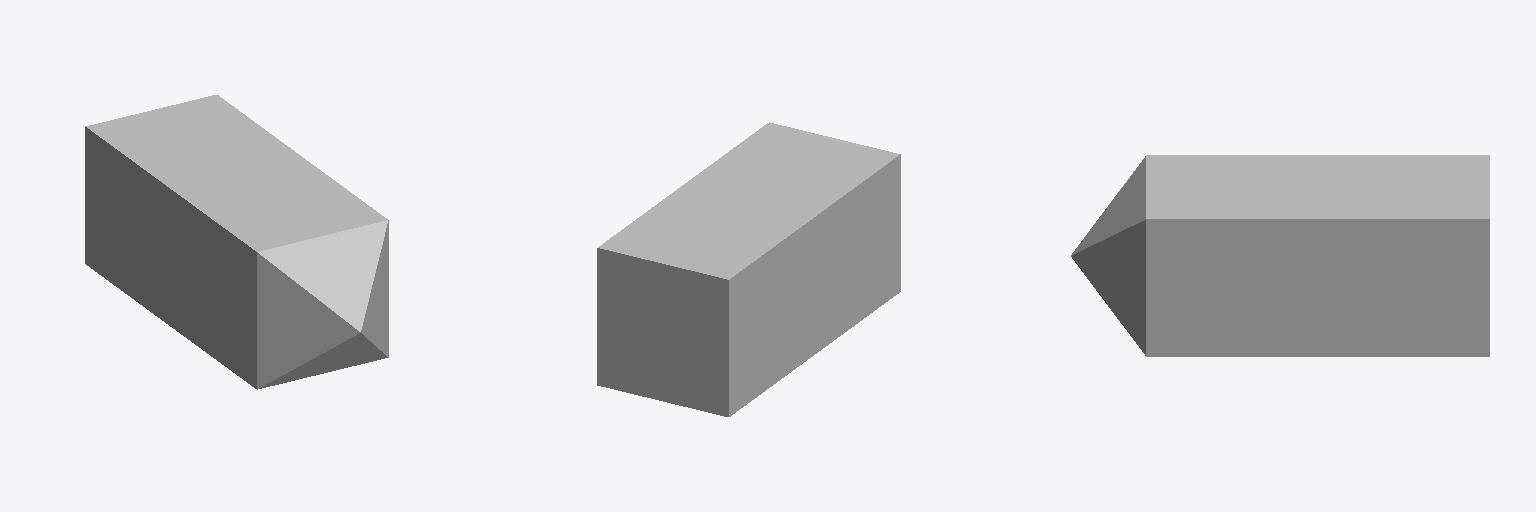
Rendered from pointer.obj.
3 renders of one model, left to right at view 1: azimuth 30°, elevation 25°; view 2: azimuth 150°, elevation 25°; view 3: azimuth 270°, elevation 25°, orthographic.
Parts seen in each view (by area): view 1: Cube; view 2: Cube; view 3: Cube.
Part boxes in pixels (x1,y1,x2,y2): Cube: (85, 95, 388, 389); Cube: (597, 122, 900, 416); Cube: (1071, 155, 1489, 356).
Bounding box in the file's own units: 0.2 × 0.2 × 0.5516.